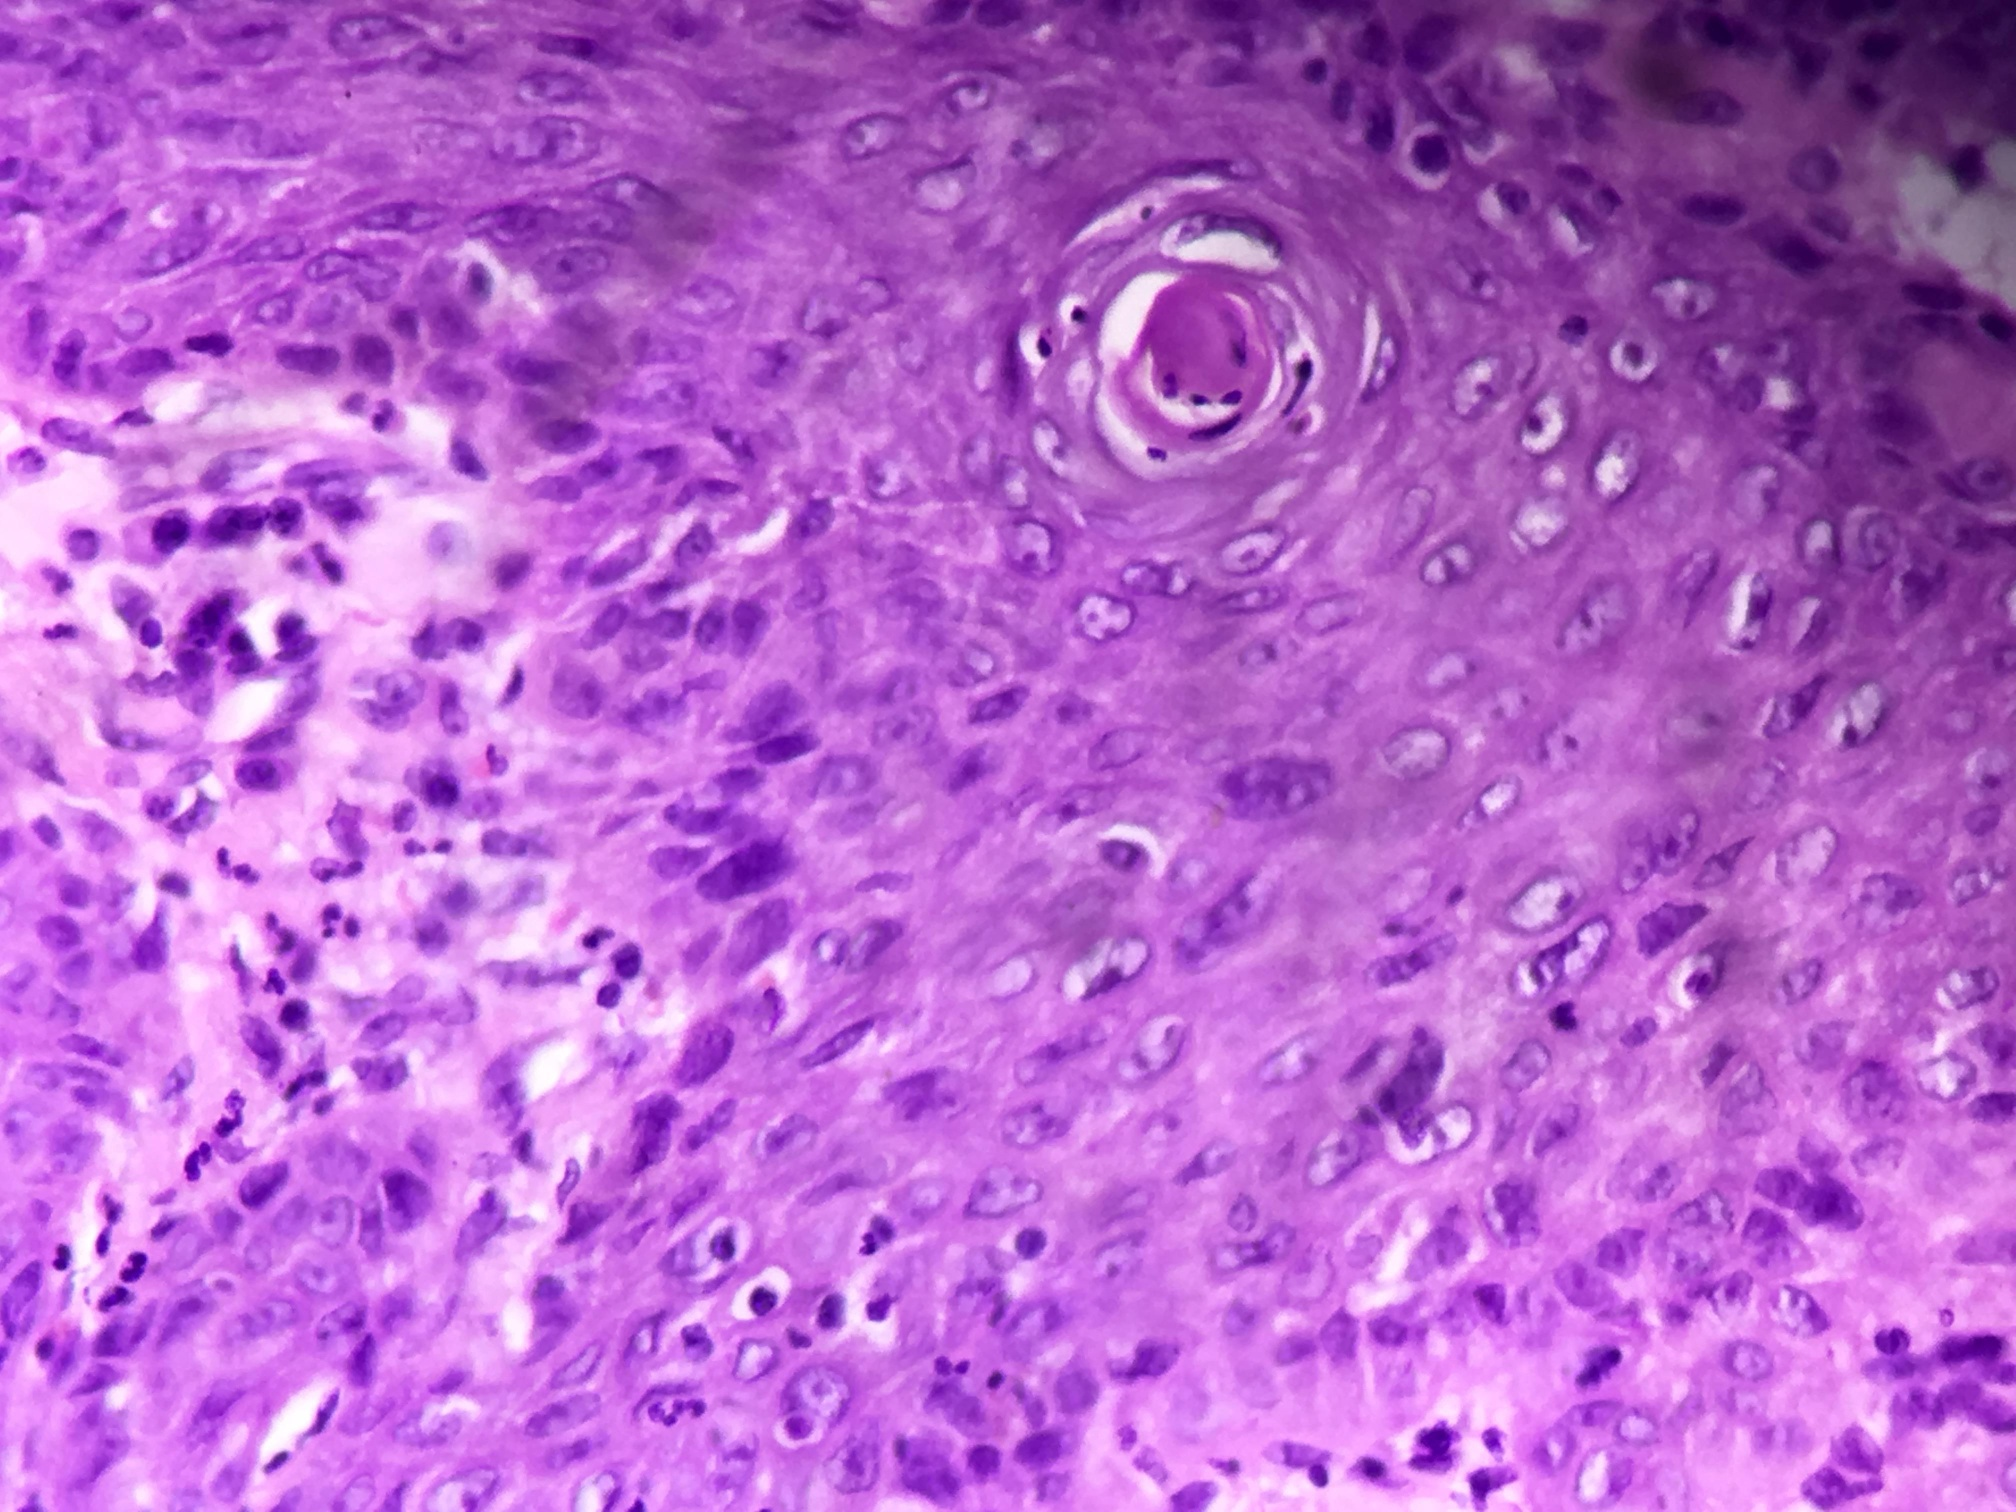mitotic: (1530, 1306, 1672, 1426)
